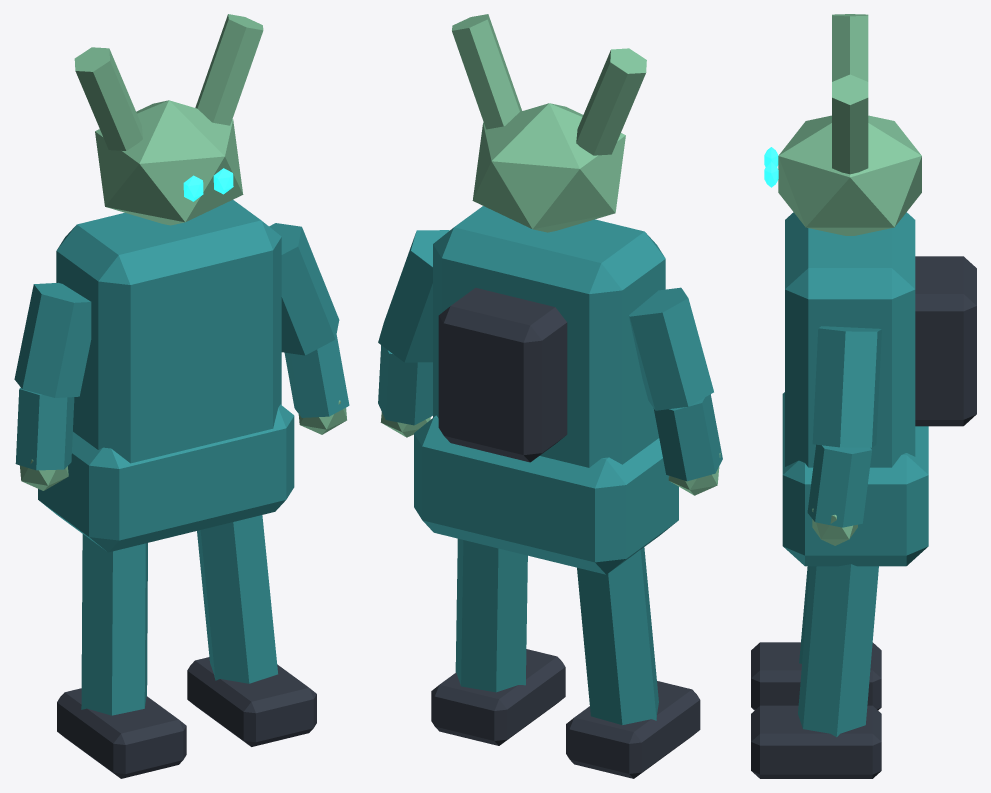
The model's file is npcs_030_seed78877.glb.
3 views of the same model, side by side, from view 1: azimuth 30°, elevation 25°; view 2: azimuth 150°, elevation 25°; view 3: azimuth 270°, elevation 25° (orthographic). The views are drawn at different scales.
Visible parts, largest first — view 1: npcs_030_seed78877; view 2: npcs_030_seed78877; view 3: npcs_030_seed78877.
Part boxes in pixels (bbox=[...]): npcs_030_seed78877: bbox=[14, 14, 349, 778]; npcs_030_seed78877: bbox=[378, 14, 722, 778]; npcs_030_seed78877: bbox=[751, 14, 976, 778].
Size of the model in its own units: 1 by 2.02 by 0.6022.
